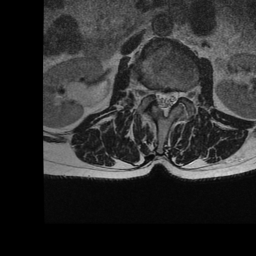CCS_normal: (161, 82, 170, 124)
LFS_normal: (178, 79, 187, 107)
LLS_normal: (170, 81, 178, 111)
RFS_stenosis: (147, 79, 154, 103)
RLS_normal: (153, 82, 161, 111)
